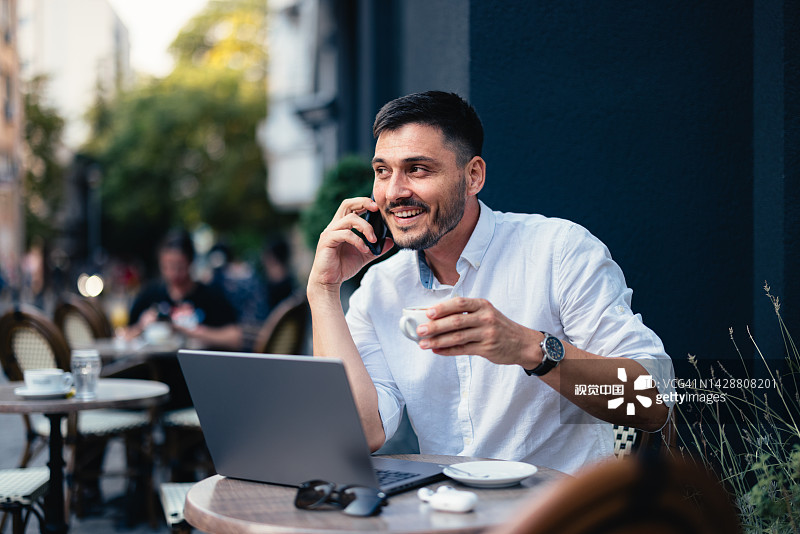calling: (299, 184, 410, 307)
no-phone: (395, 290, 542, 381)
